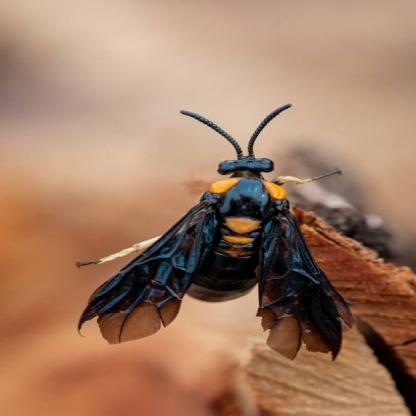sawfly: (70, 94, 372, 361)
